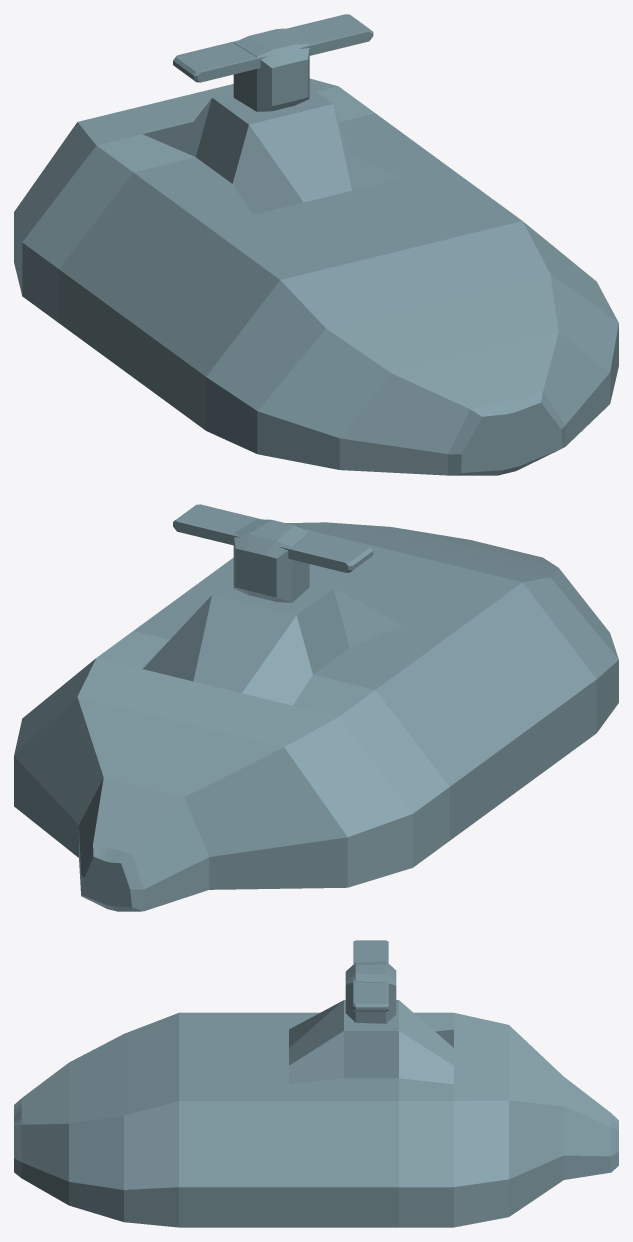
The model's file is ballard_light_a.glb.
3 views of the same model, one above another, from view 1: azimuth 30°, elevation 25°; view 2: azimuth 150°, elevation 25°; view 3: azimuth 270°, elevation 25° (orthographic). The views are drawn at different scales.
Parts seen in each view (by area): view 1: ballard_light_a; view 2: ballard_light_a; view 3: ballard_light_a.
Part boxes in pixels (x1,y1,x2,y2): ballard_light_a: [14, 14, 618, 475]; ballard_light_a: [14, 504, 618, 911]; ballard_light_a: [14, 940, 618, 1227].
Size of the model in its own units: 2.9 by 1.86 by 5.2.
